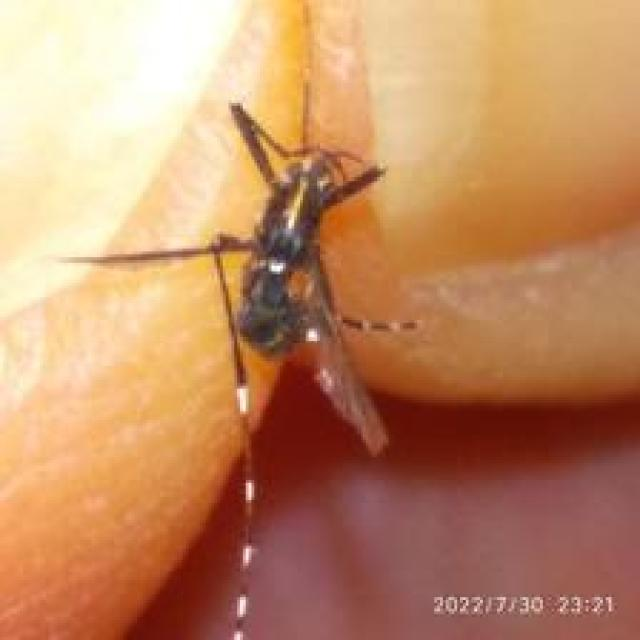Aedes albopictus: (59, 77, 422, 640)
